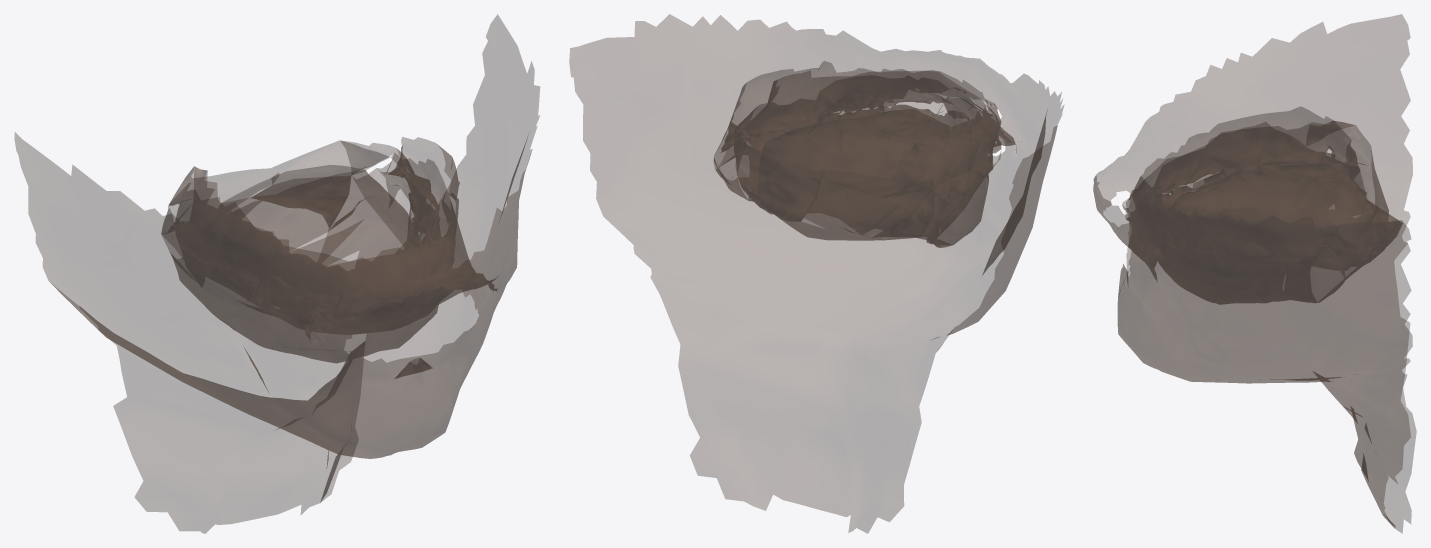
File: kopf.bart.stoppeln.glb
The picture shows the model from 3 angles, left to right: view 1: azimuth 30°, elevation 25°; view 2: azimuth 150°, elevation 25°; view 3: azimuth 270°, elevation 25°; orthographic projection. The views are drawn at different scales.
Parts seen in each view (by area): view 1: bart; view 2: bart; view 3: bart.
Part boxes in pixels (x1=…): bart: x1=14, y1=14, x2=539, y2=533; bart: x1=569, y1=14, x2=1063, y2=533; bart: x1=1093, y1=14, x2=1416, y2=533.
Size of the model in its own units: 0.128 by 0.1136 by 0.085.
